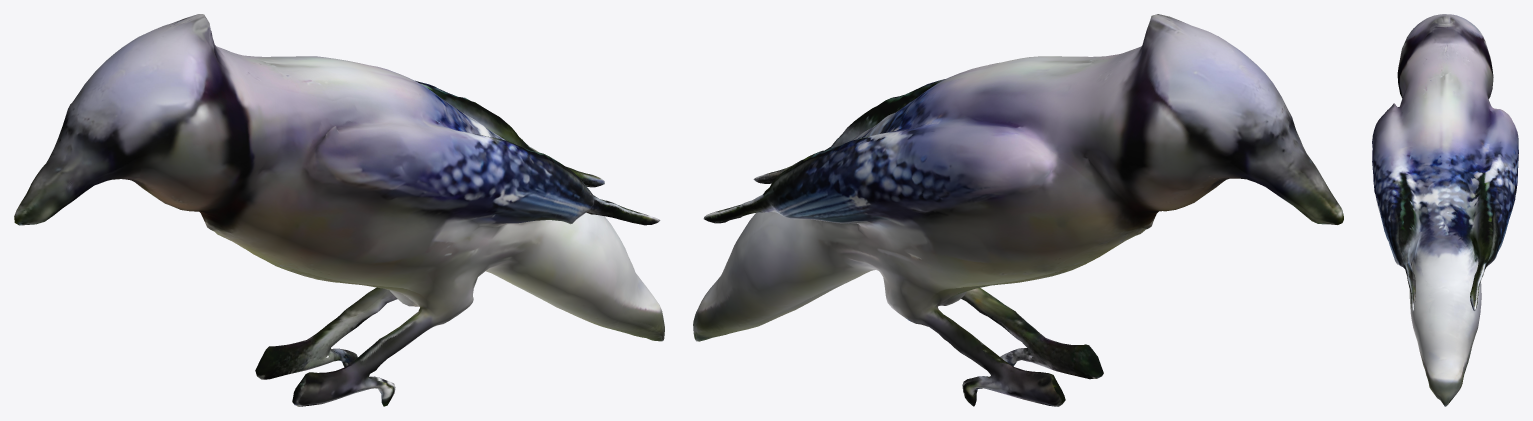
File: pecking_blue_jay_textured_frame_000000.glb
The picture shows the model from 3 angles, left to right: view 1: azimuth 30°, elevation 25°; view 2: azimuth 150°, elevation 25°; view 3: azimuth 270°, elevation 25°; orthographic projection. The views are drawn at different scales.
Parts seen in each view (by area): view 1: geometry_0; view 2: geometry_0; view 3: geometry_0.
Boxes of the visible parts, bbox=[...] form: geometry_0: bbox=[14, 14, 664, 406]; geometry_0: bbox=[693, 14, 1343, 406]; geometry_0: bbox=[1372, 14, 1518, 406].
Size of the model in its own units: 1.86 by 1.2 by 0.6234.
1 material, 1 textured.
